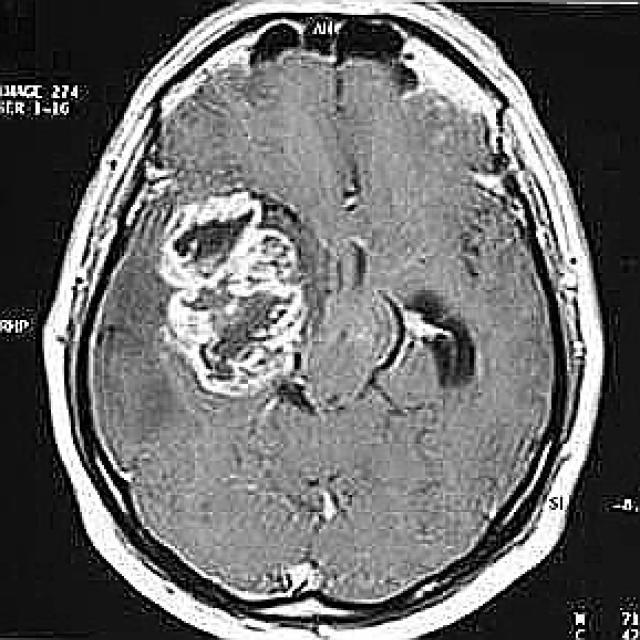Tumor-Cell: (154, 187, 334, 403)
